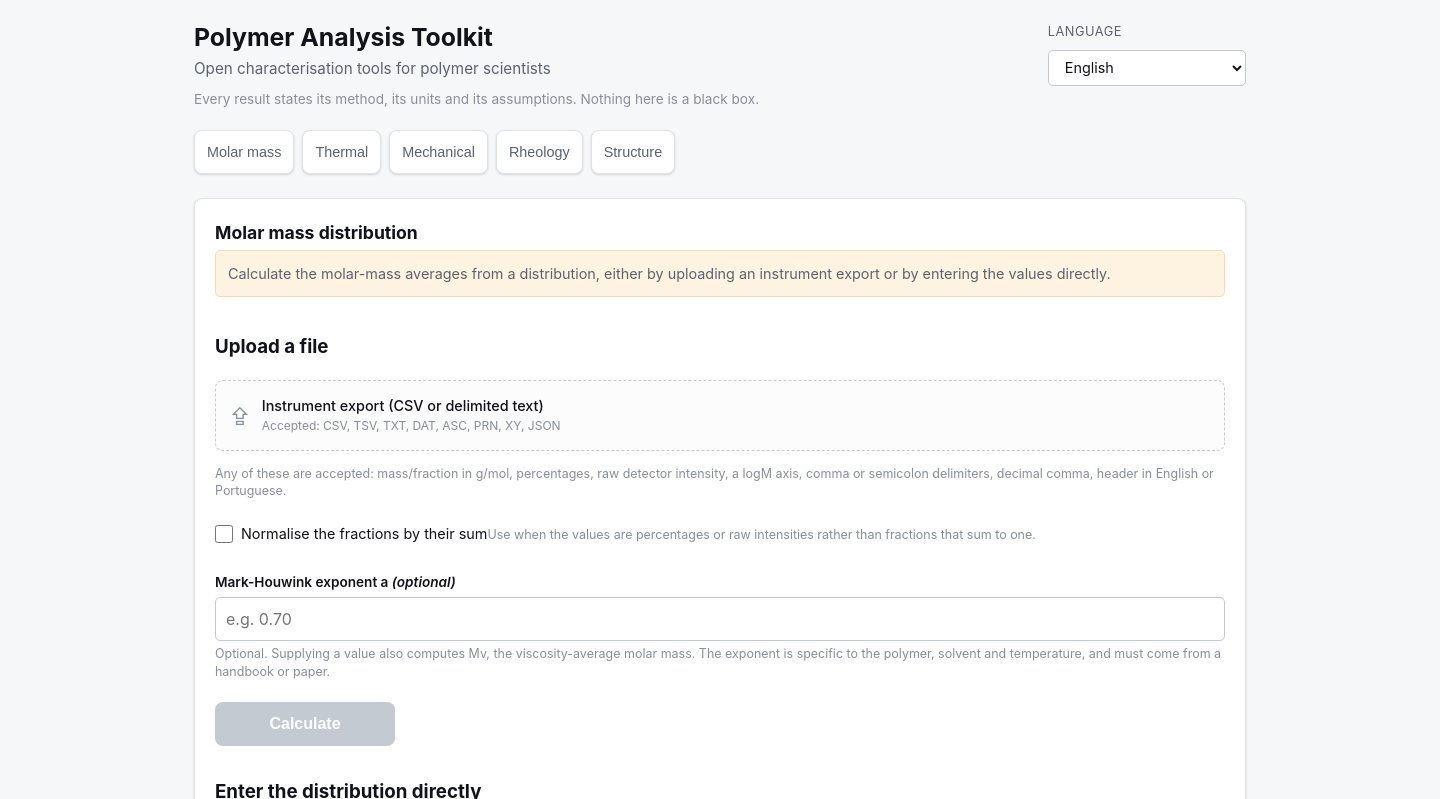
Test case: reference enthalpy from the internal database › typing a value stops the panel claiming the citation applies
Click the button "Thermal": (342, 152) [302,130,381,174]
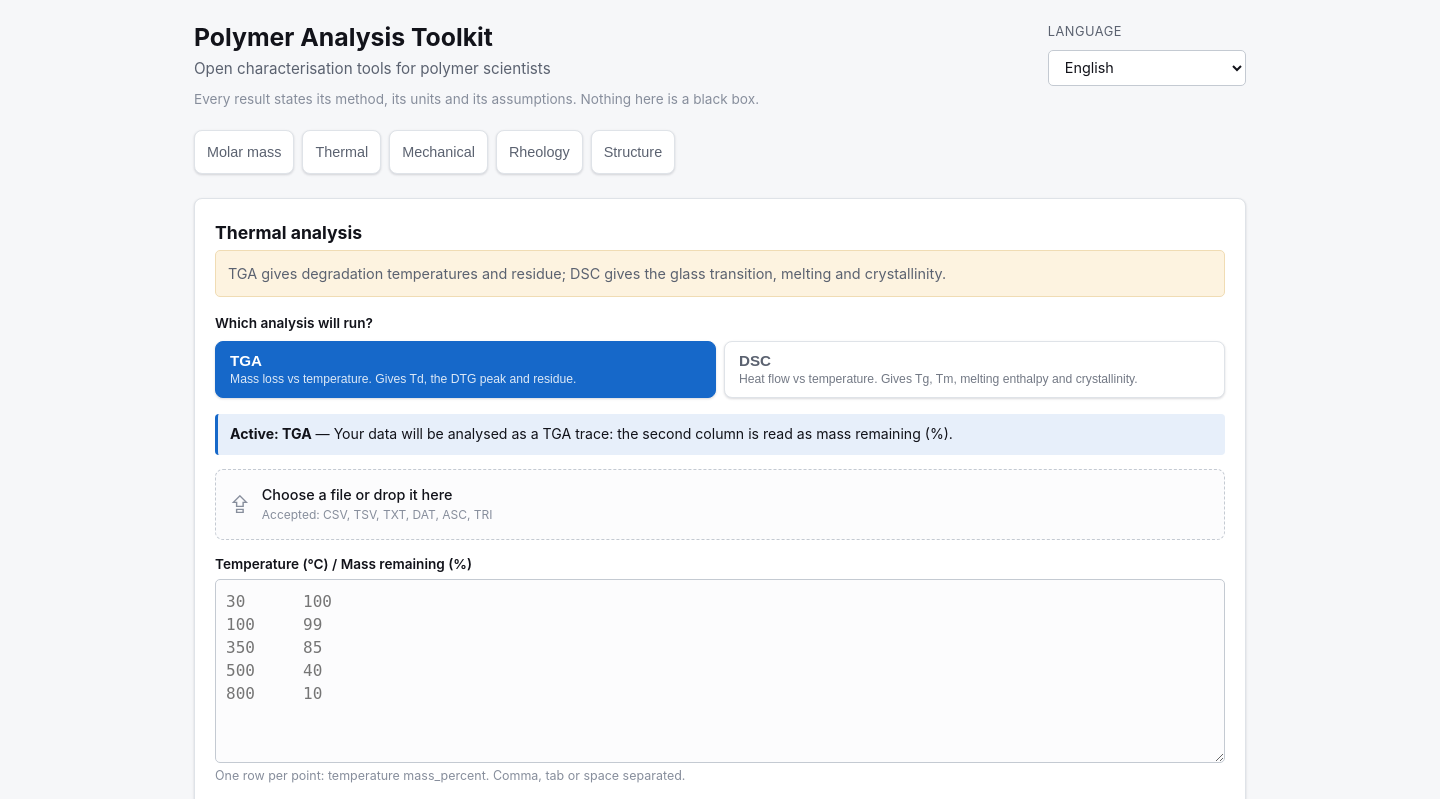
Click the tab "DSC": (974, 369) [724,340,1225,398]
(page scrolled)
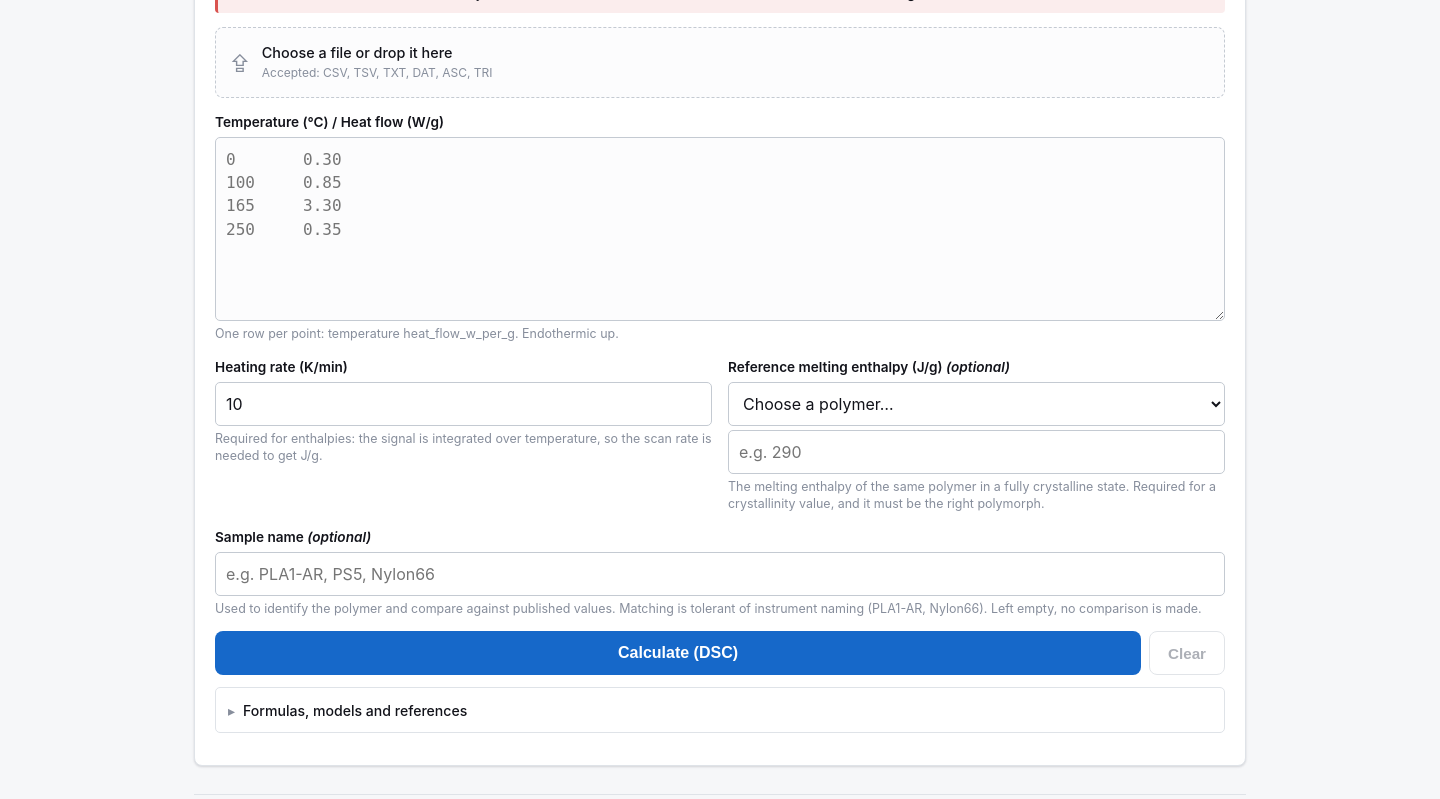
Check: the label that starts with "Reference melting enthalpy (J/g)" is shown, box [728,357,1225,513]
Check: the dropdown is shown
Select "Polietileno (PE, HDPE/LDPE) — 293 J/g" in the dropdown: (976, 404) [728,382,1225,426]
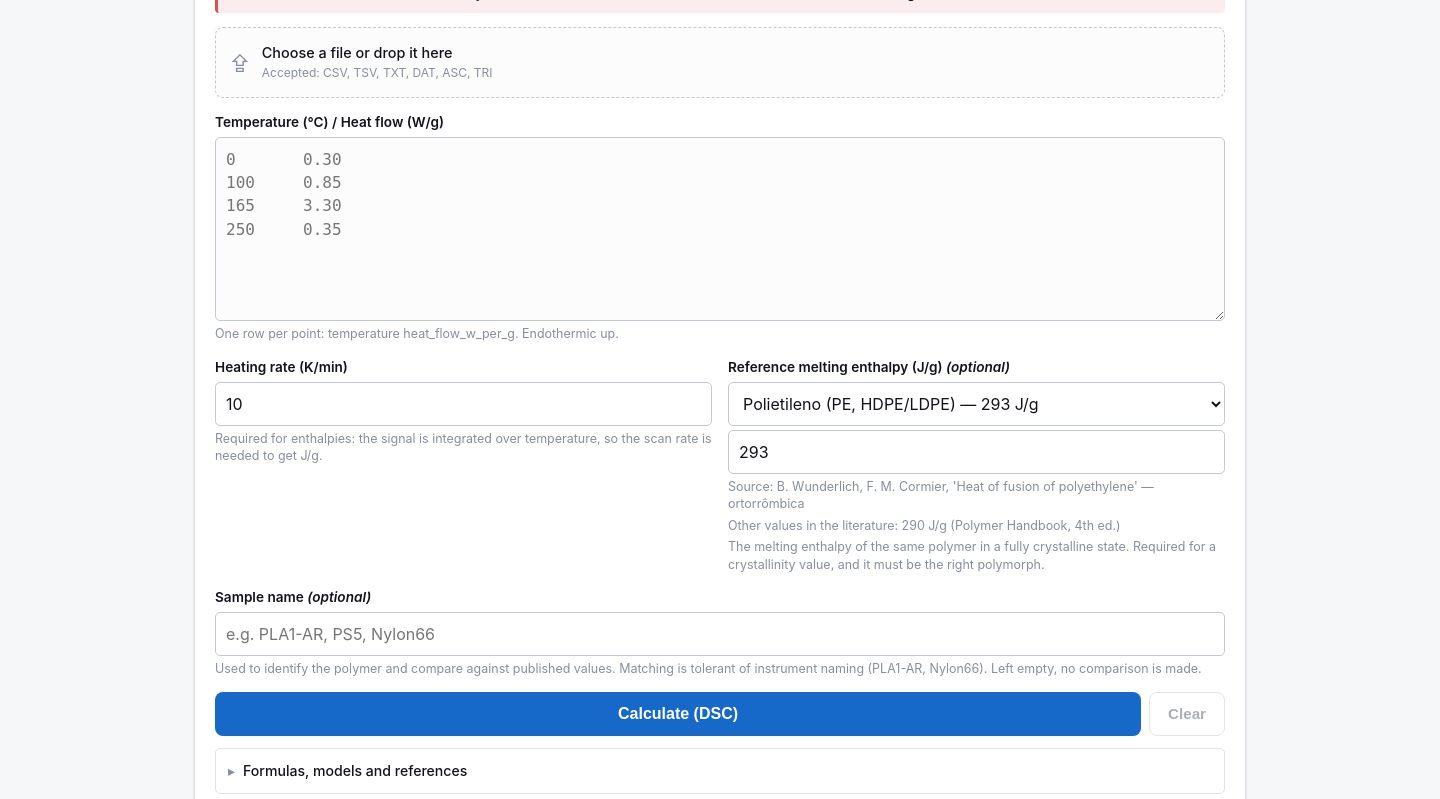
Check: the text "Wunderlich" is shown, box [777,479,1138,494]
Replace the text in the 2nd number field with "150": (976, 452) [728,430,1225,474]
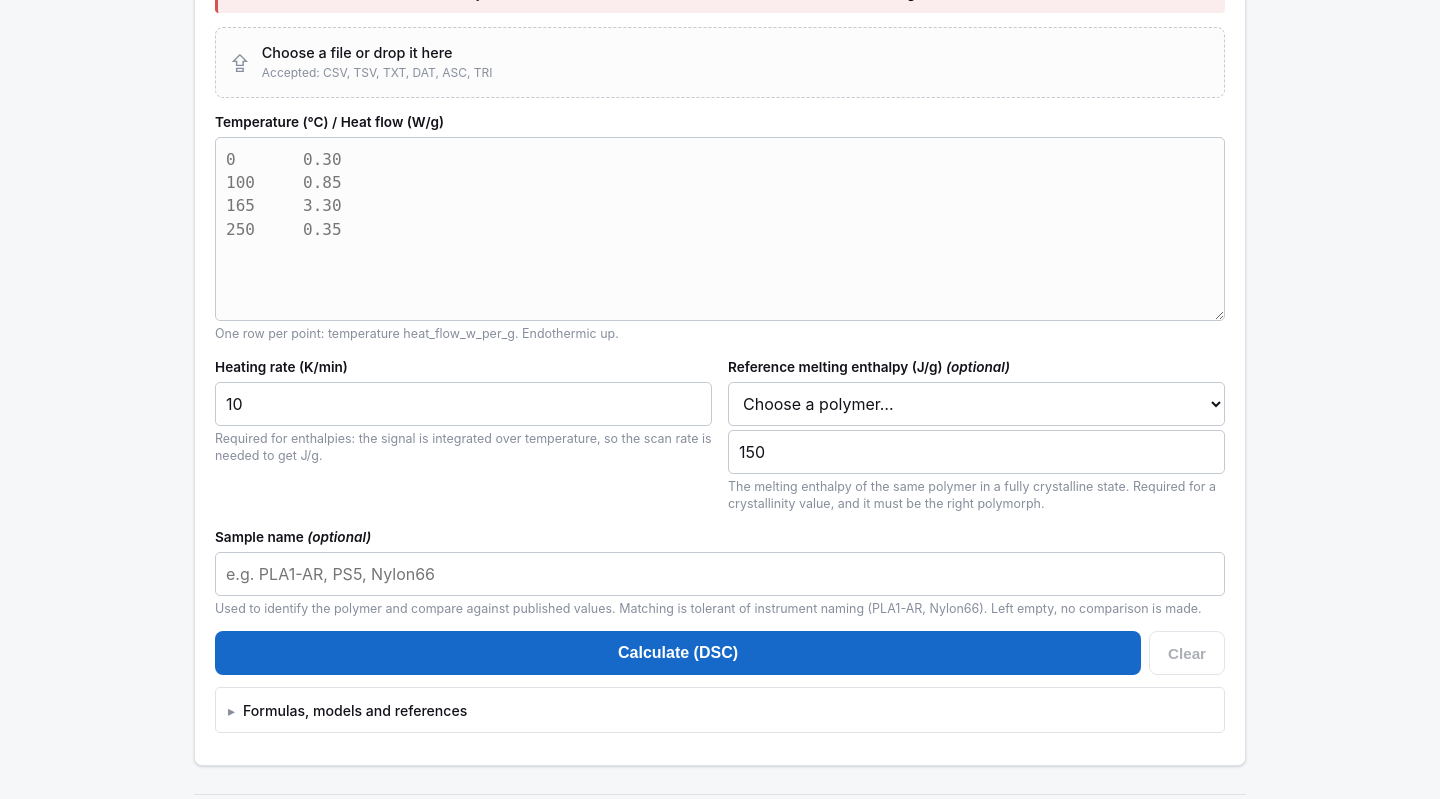
Check: the text "Wunderlich" is gone
